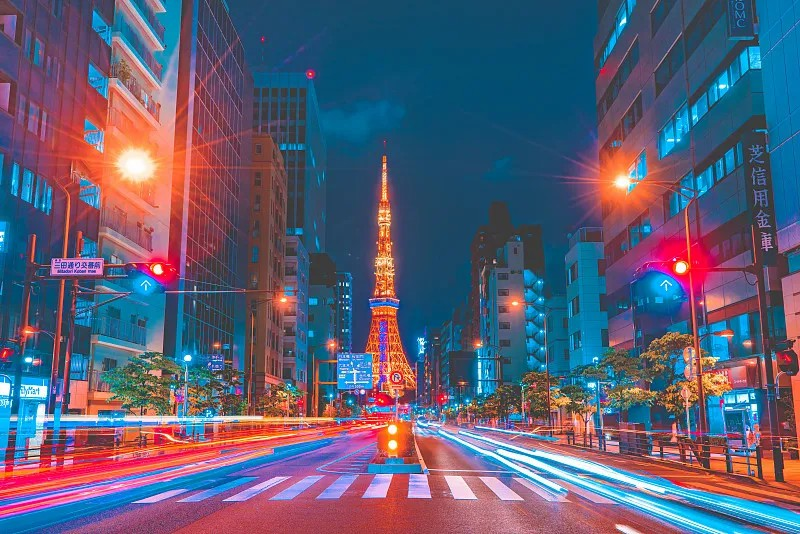Tokyo: (362, 137, 417, 400)
